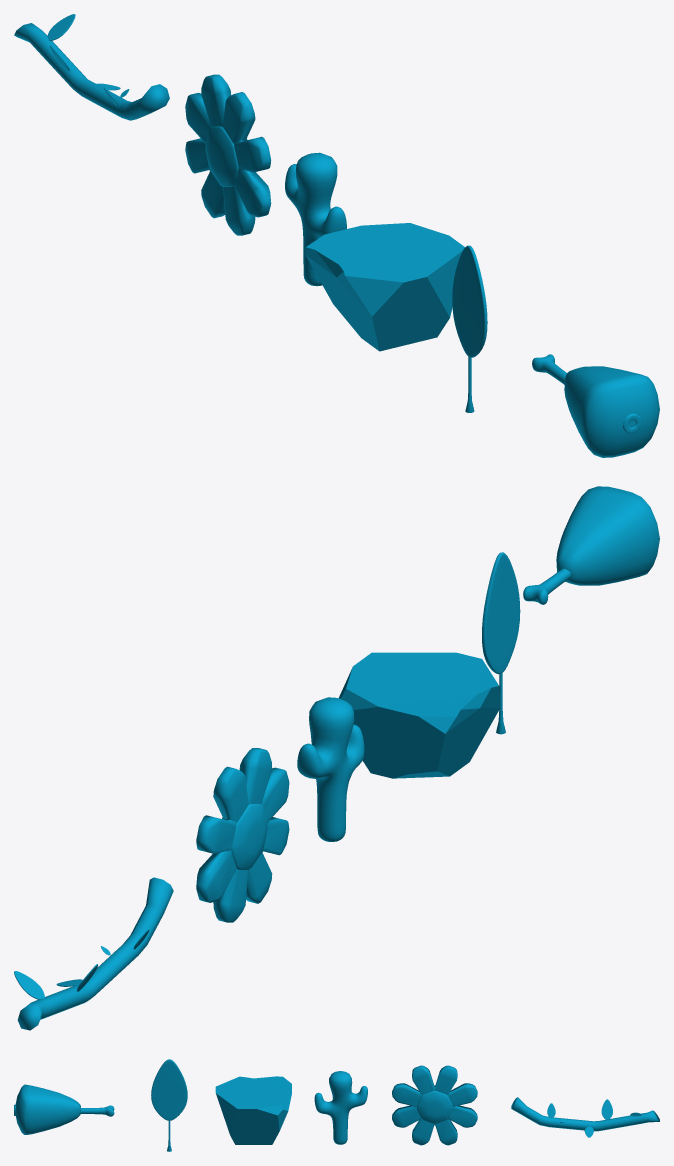
Rendered from habitatminijuego.fbx.
3 views of the same model, one above another, from view 1: azimuth 30°, elevation 25°; view 2: azimuth 150°, elevation 25°; view 3: azimuth 270°, elevation 25° (orthographic). The views are drawn at different scales.
Visible parts, largest first — view 1: hielo, flor, muslo, cactus, rama, hoja, centro flor; view 2: hielo, flor, muslo, cactus, rama, hoja, centro flor, hueso palo; view 3: hielo, flor, muslo, cactus, hoja, rama, centro flor, hueso palo, hoja.001.
Part boxes in pixels (box(x1,y1,x2,y2)): hielo: box(305, 223, 464, 351); flor: box(185, 74, 271, 235); muslo: box(564, 366, 659, 457); cactus: box(285, 152, 346, 286); rama: box(14, 23, 169, 120); hoja: box(452, 245, 487, 357); centro flor: box(205, 126, 247, 186); hielo: box(339, 652, 500, 778); flor: box(196, 748, 289, 922); muslo: box(556, 486, 659, 585); cactus: box(297, 697, 364, 841); rama: box(17, 877, 173, 1030); hoja: box(482, 552, 520, 674); centro flor: box(222, 804, 267, 869); hueso palo: box(523, 568, 570, 604); hielo: box(215, 1076, 291, 1144); flor: box(392, 1065, 477, 1145); muslo: box(15, 1084, 80, 1134); cactus: box(314, 1071, 367, 1144); hoja: box(151, 1059, 187, 1120); rama: box(511, 1097, 659, 1131); centro flor: box(417, 1091, 452, 1123); hueso palo: box(80, 1105, 114, 1116); hoja.001: box(601, 1099, 612, 1119).
Bounding box in the file's own units: 416 × 544 × 3482.
